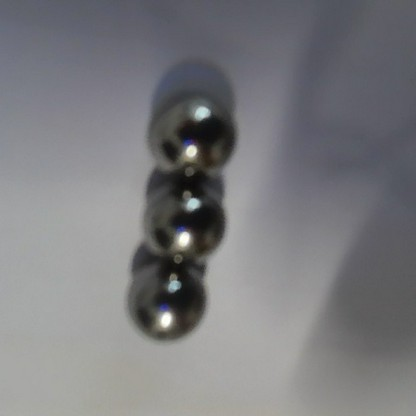ironball: (124, 259, 210, 343), (146, 91, 234, 173), (139, 181, 225, 259)
